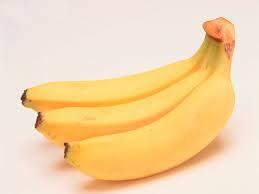banana: (19, 15, 236, 183)
